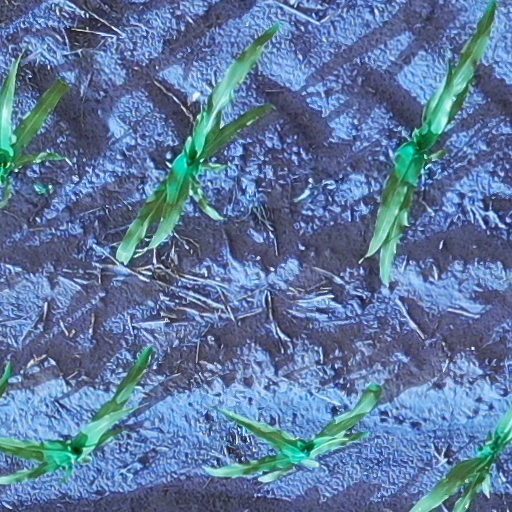planta: (110, 19, 285, 269), (201, 377, 387, 488)
